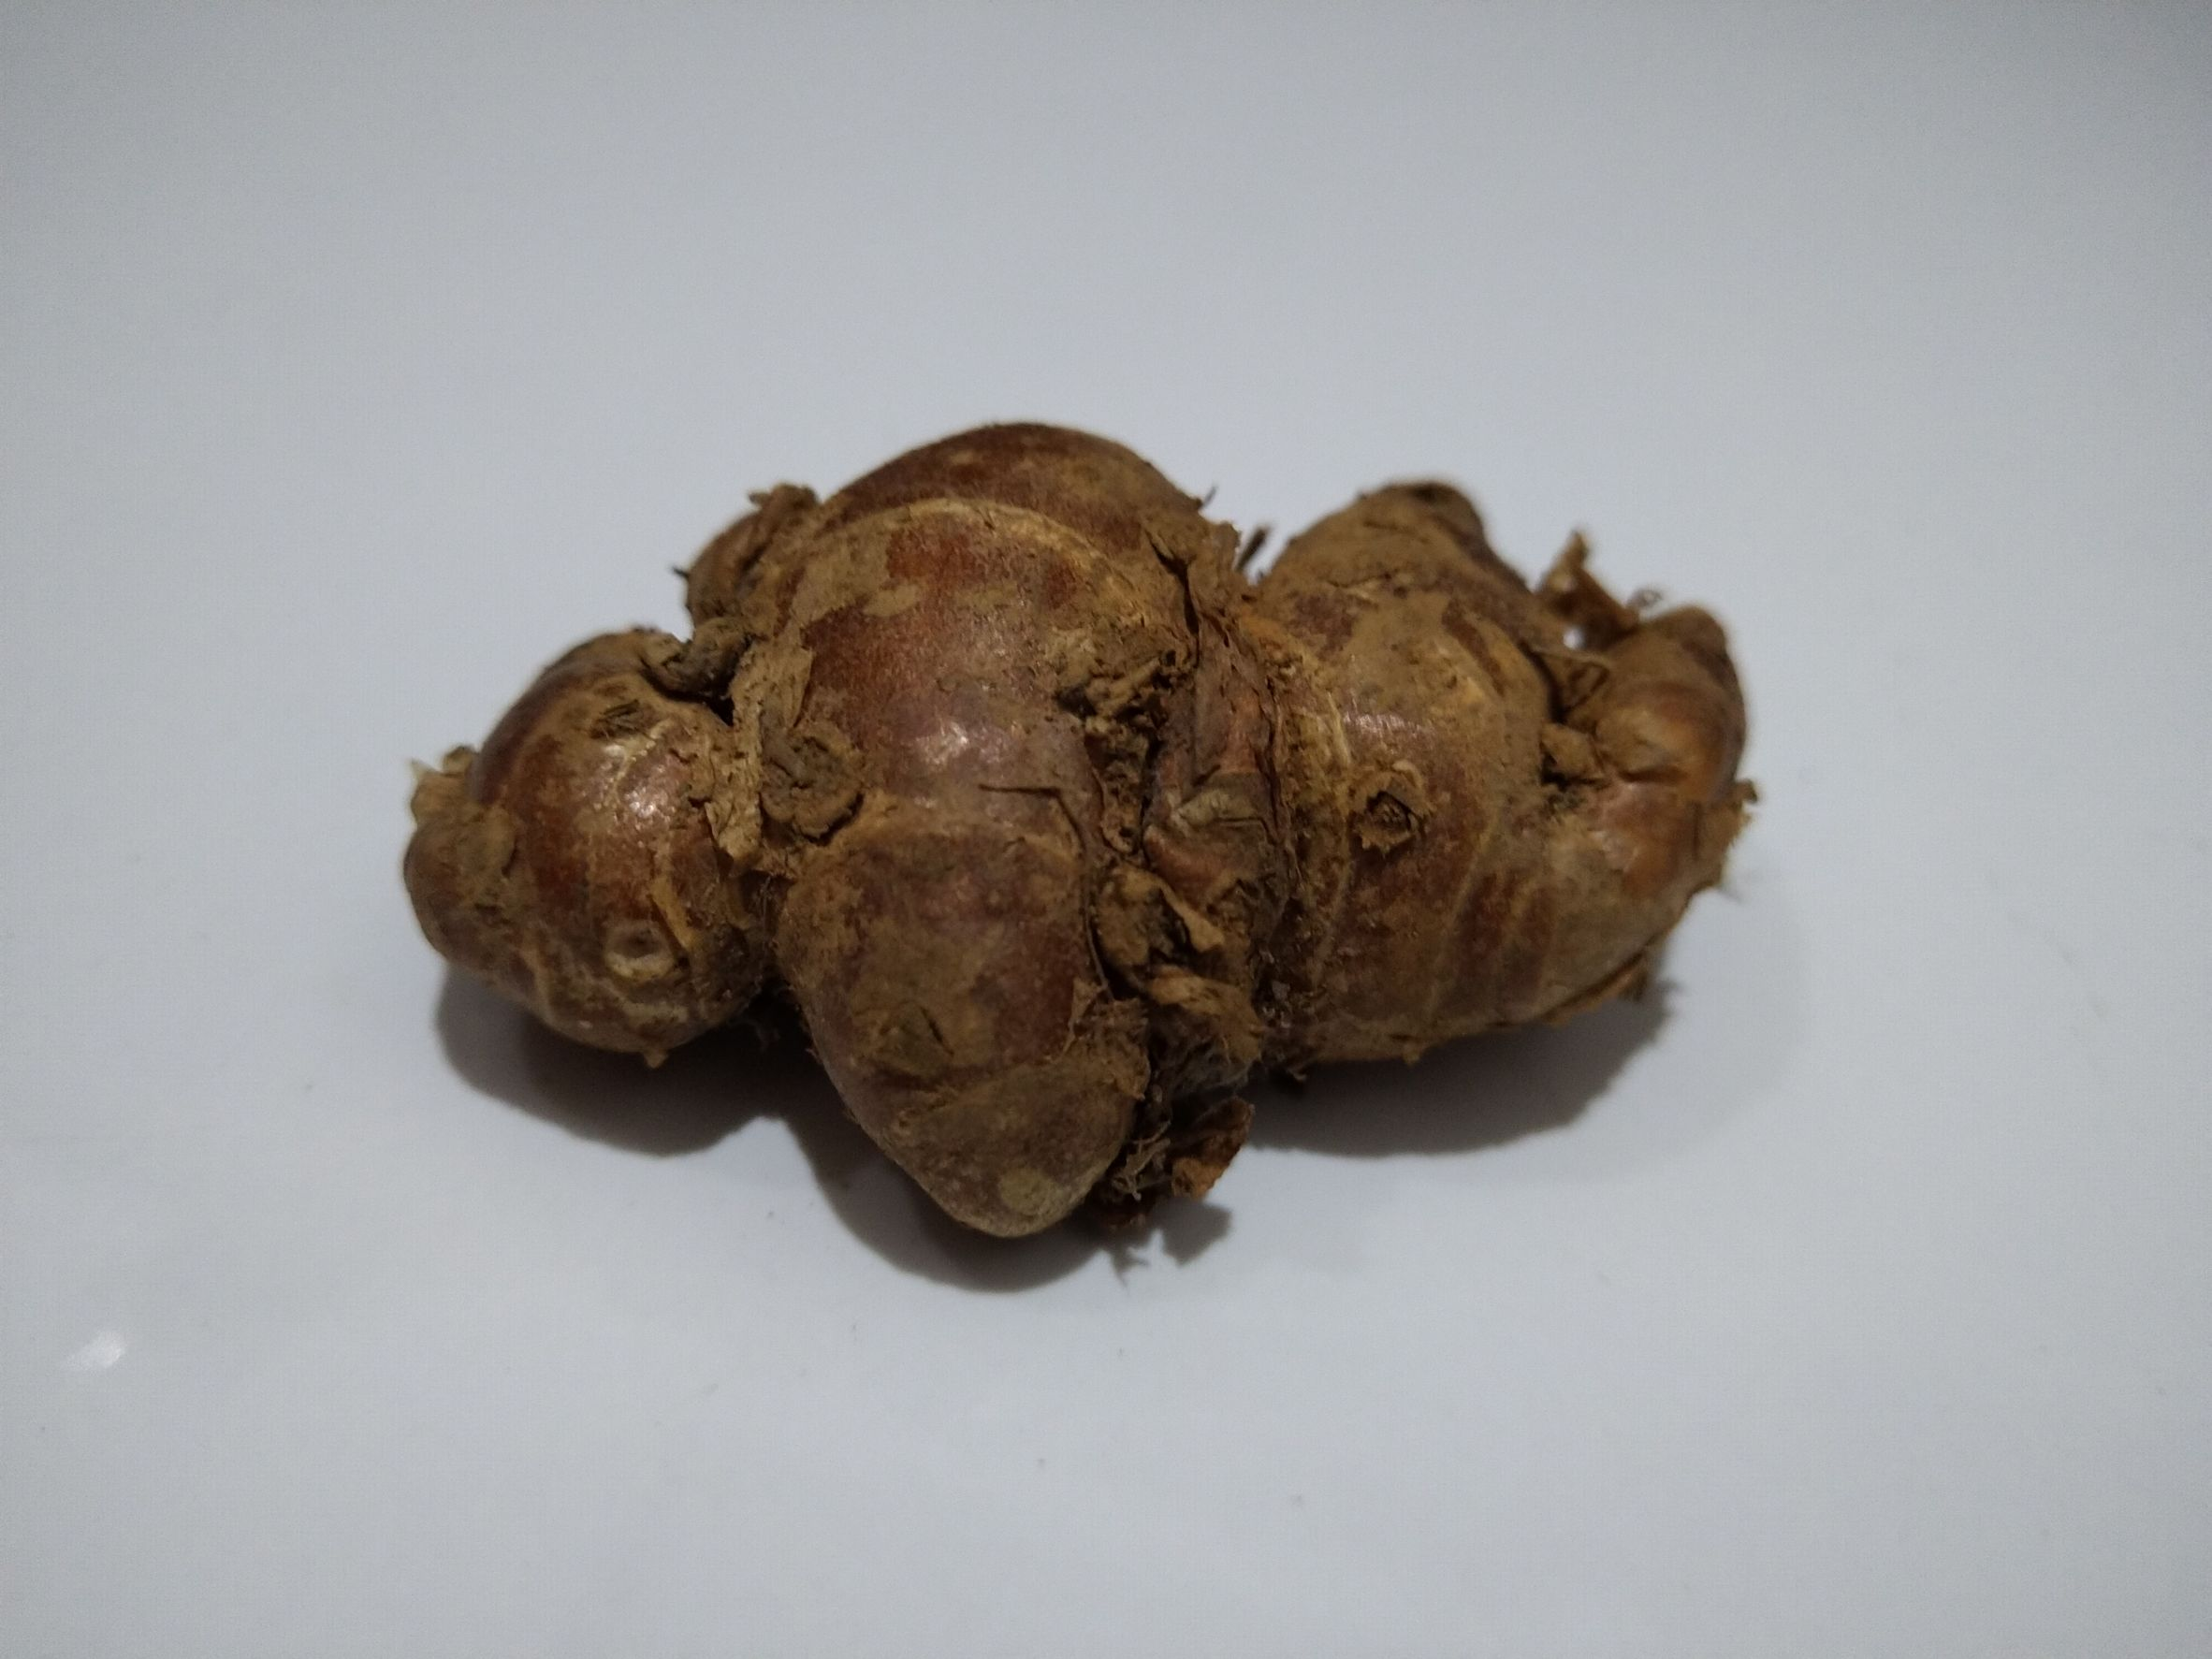Kencur: (411, 441, 1750, 1263)
